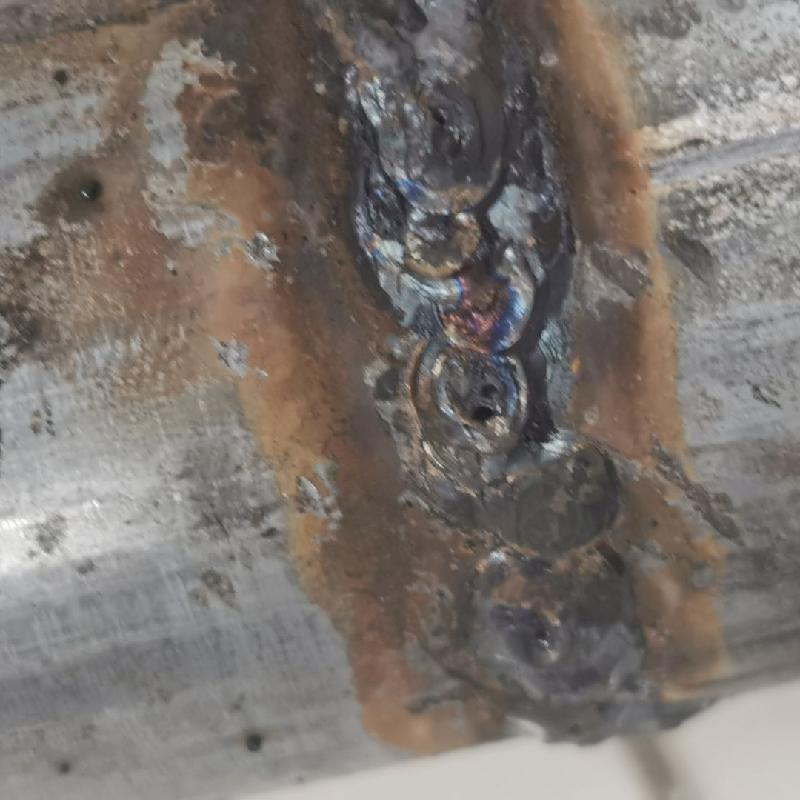Surface_pores: (454, 366, 512, 431)
crater: (321, 6, 538, 453)
wrong_size: (421, 457, 700, 751)
